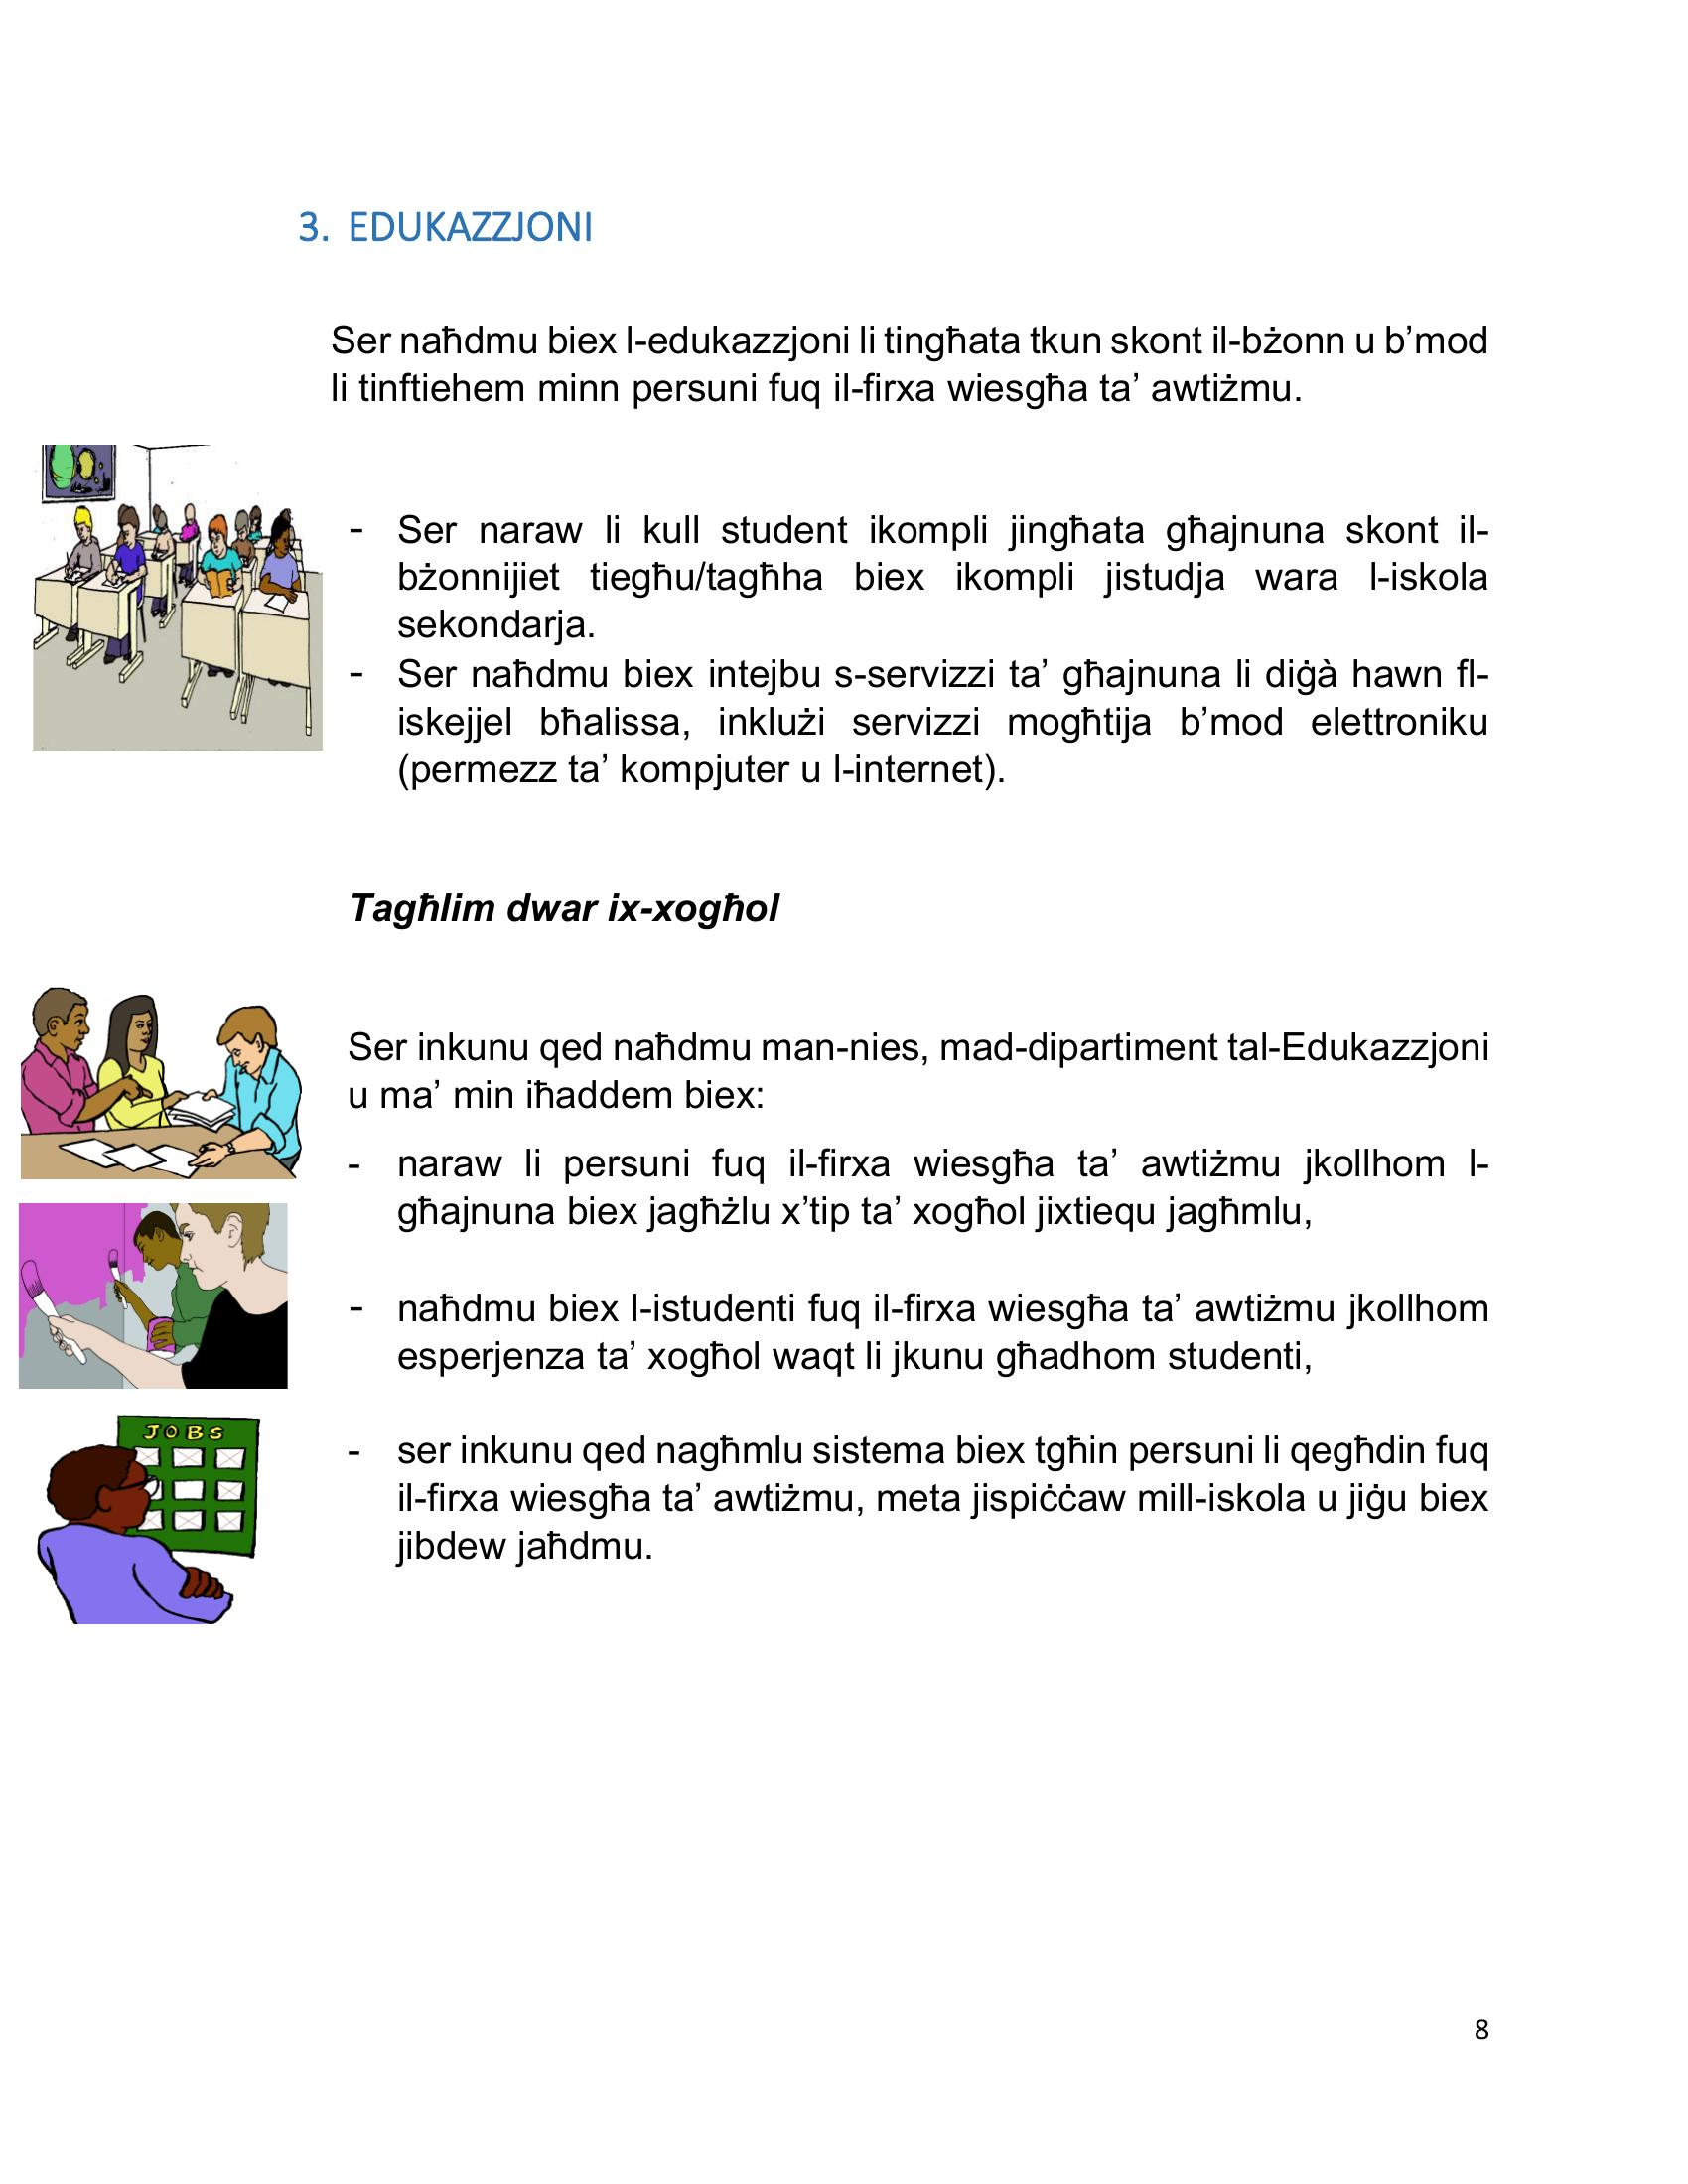text: (330, 493, 1536, 1601), (287, 177, 1514, 436)
